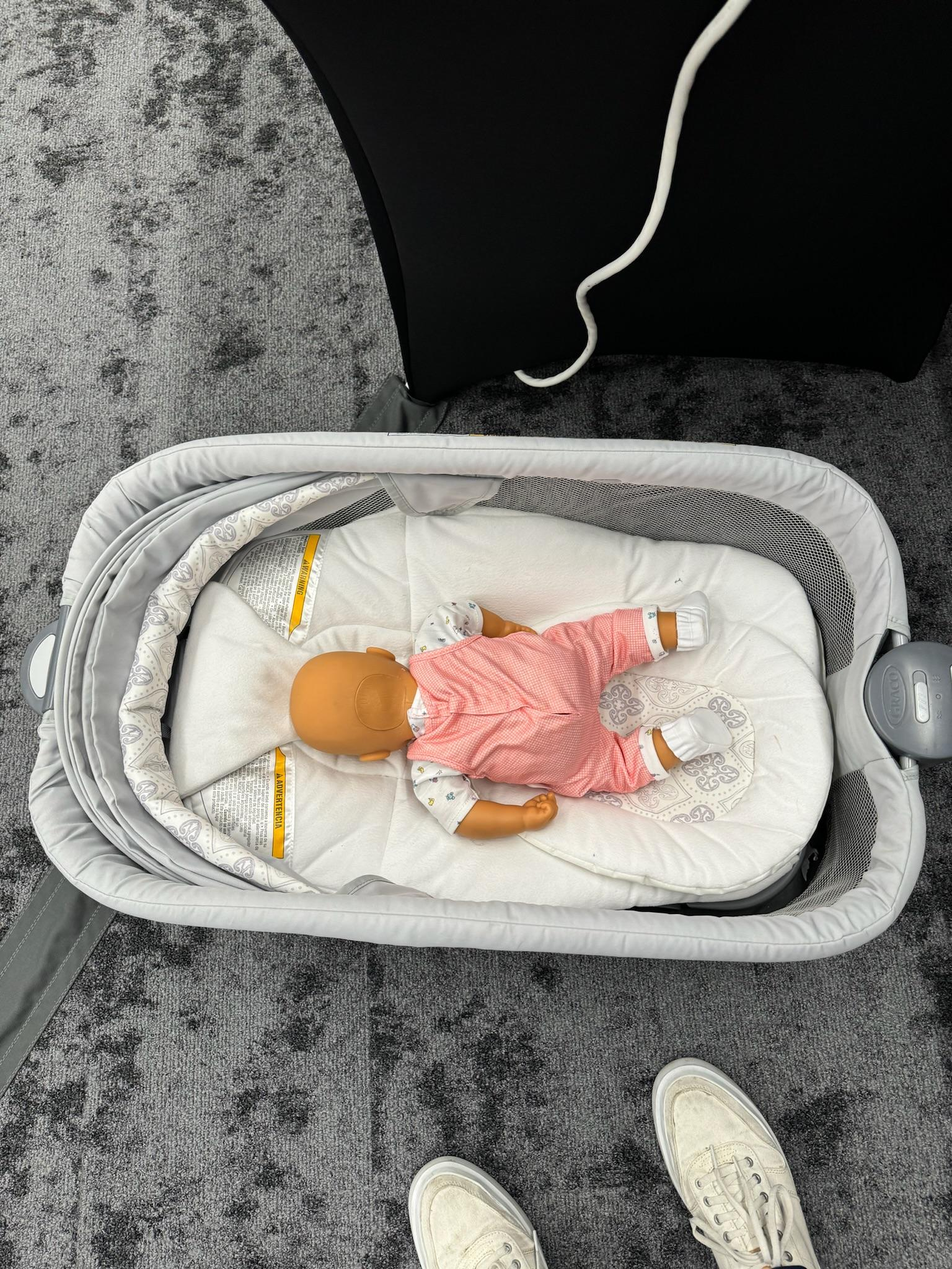baby: (279, 582, 751, 847)
